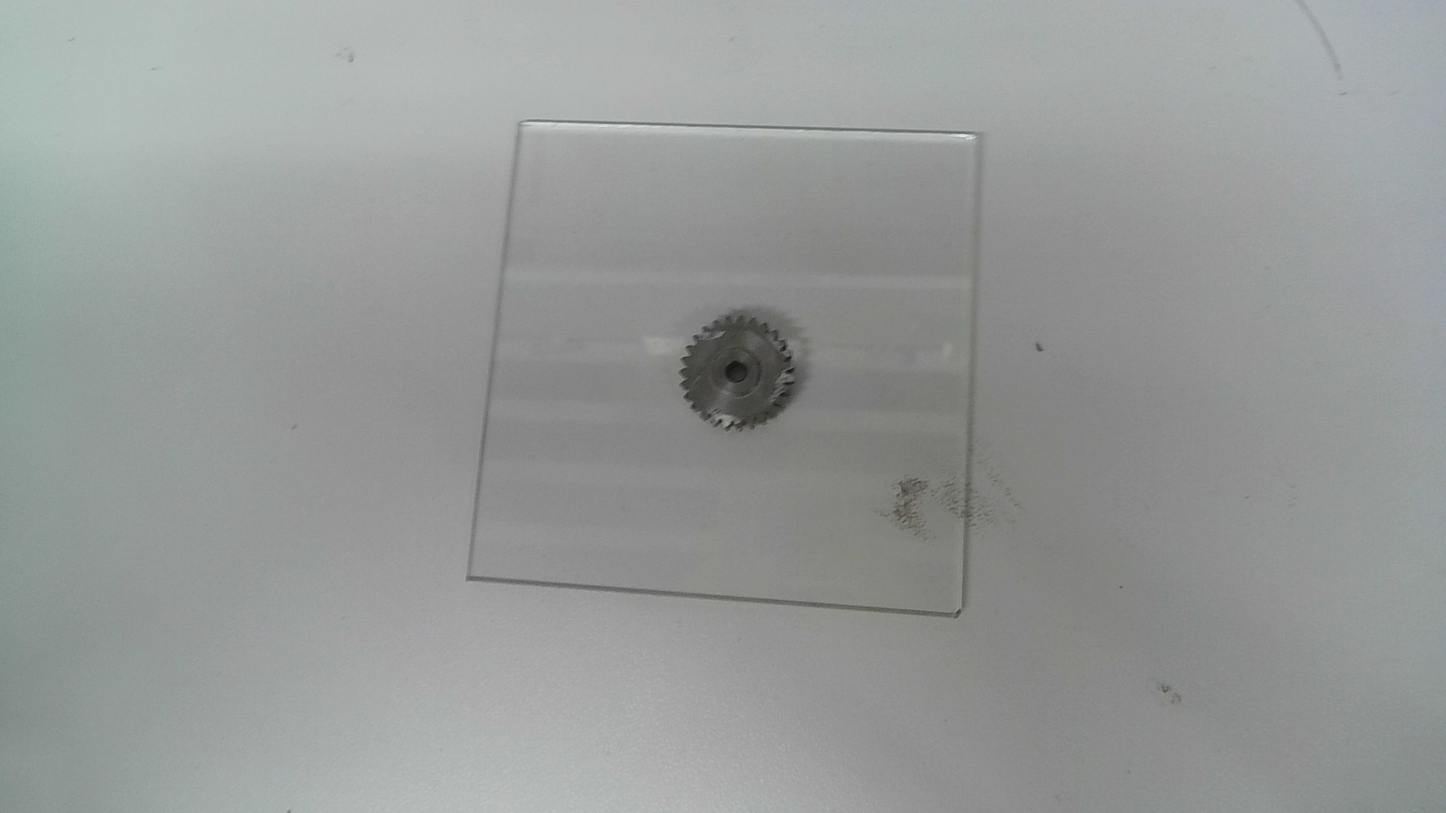gear: (677, 311, 799, 434)
